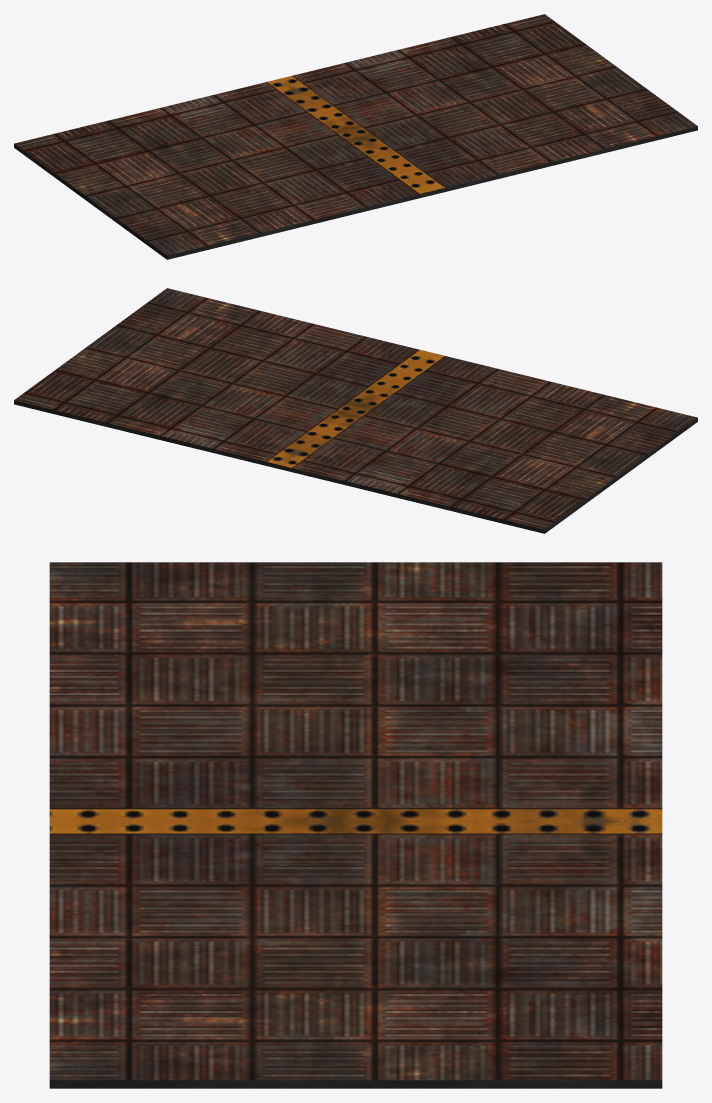
File: plaka_06.FBX
3 renders of one model, top to bottom at view 1: azimuth 30°, elevation 25°; view 2: azimuth 150°, elevation 25°; view 3: azimuth 270°, elevation 25°, orthographic. The views are drawn at different scales.
Visible parts, largest first — view 1: plaka_05; view 2: plaka_05; view 3: plaka_05.
Part boxes in pixels (x1,y1,x2,y2): plaka_05: (14, 14, 697, 259); plaka_05: (14, 288, 697, 533); plaka_05: (49, 562, 662, 1088).
Size of the model in its own units: 1000 by 7.5 by 500.
